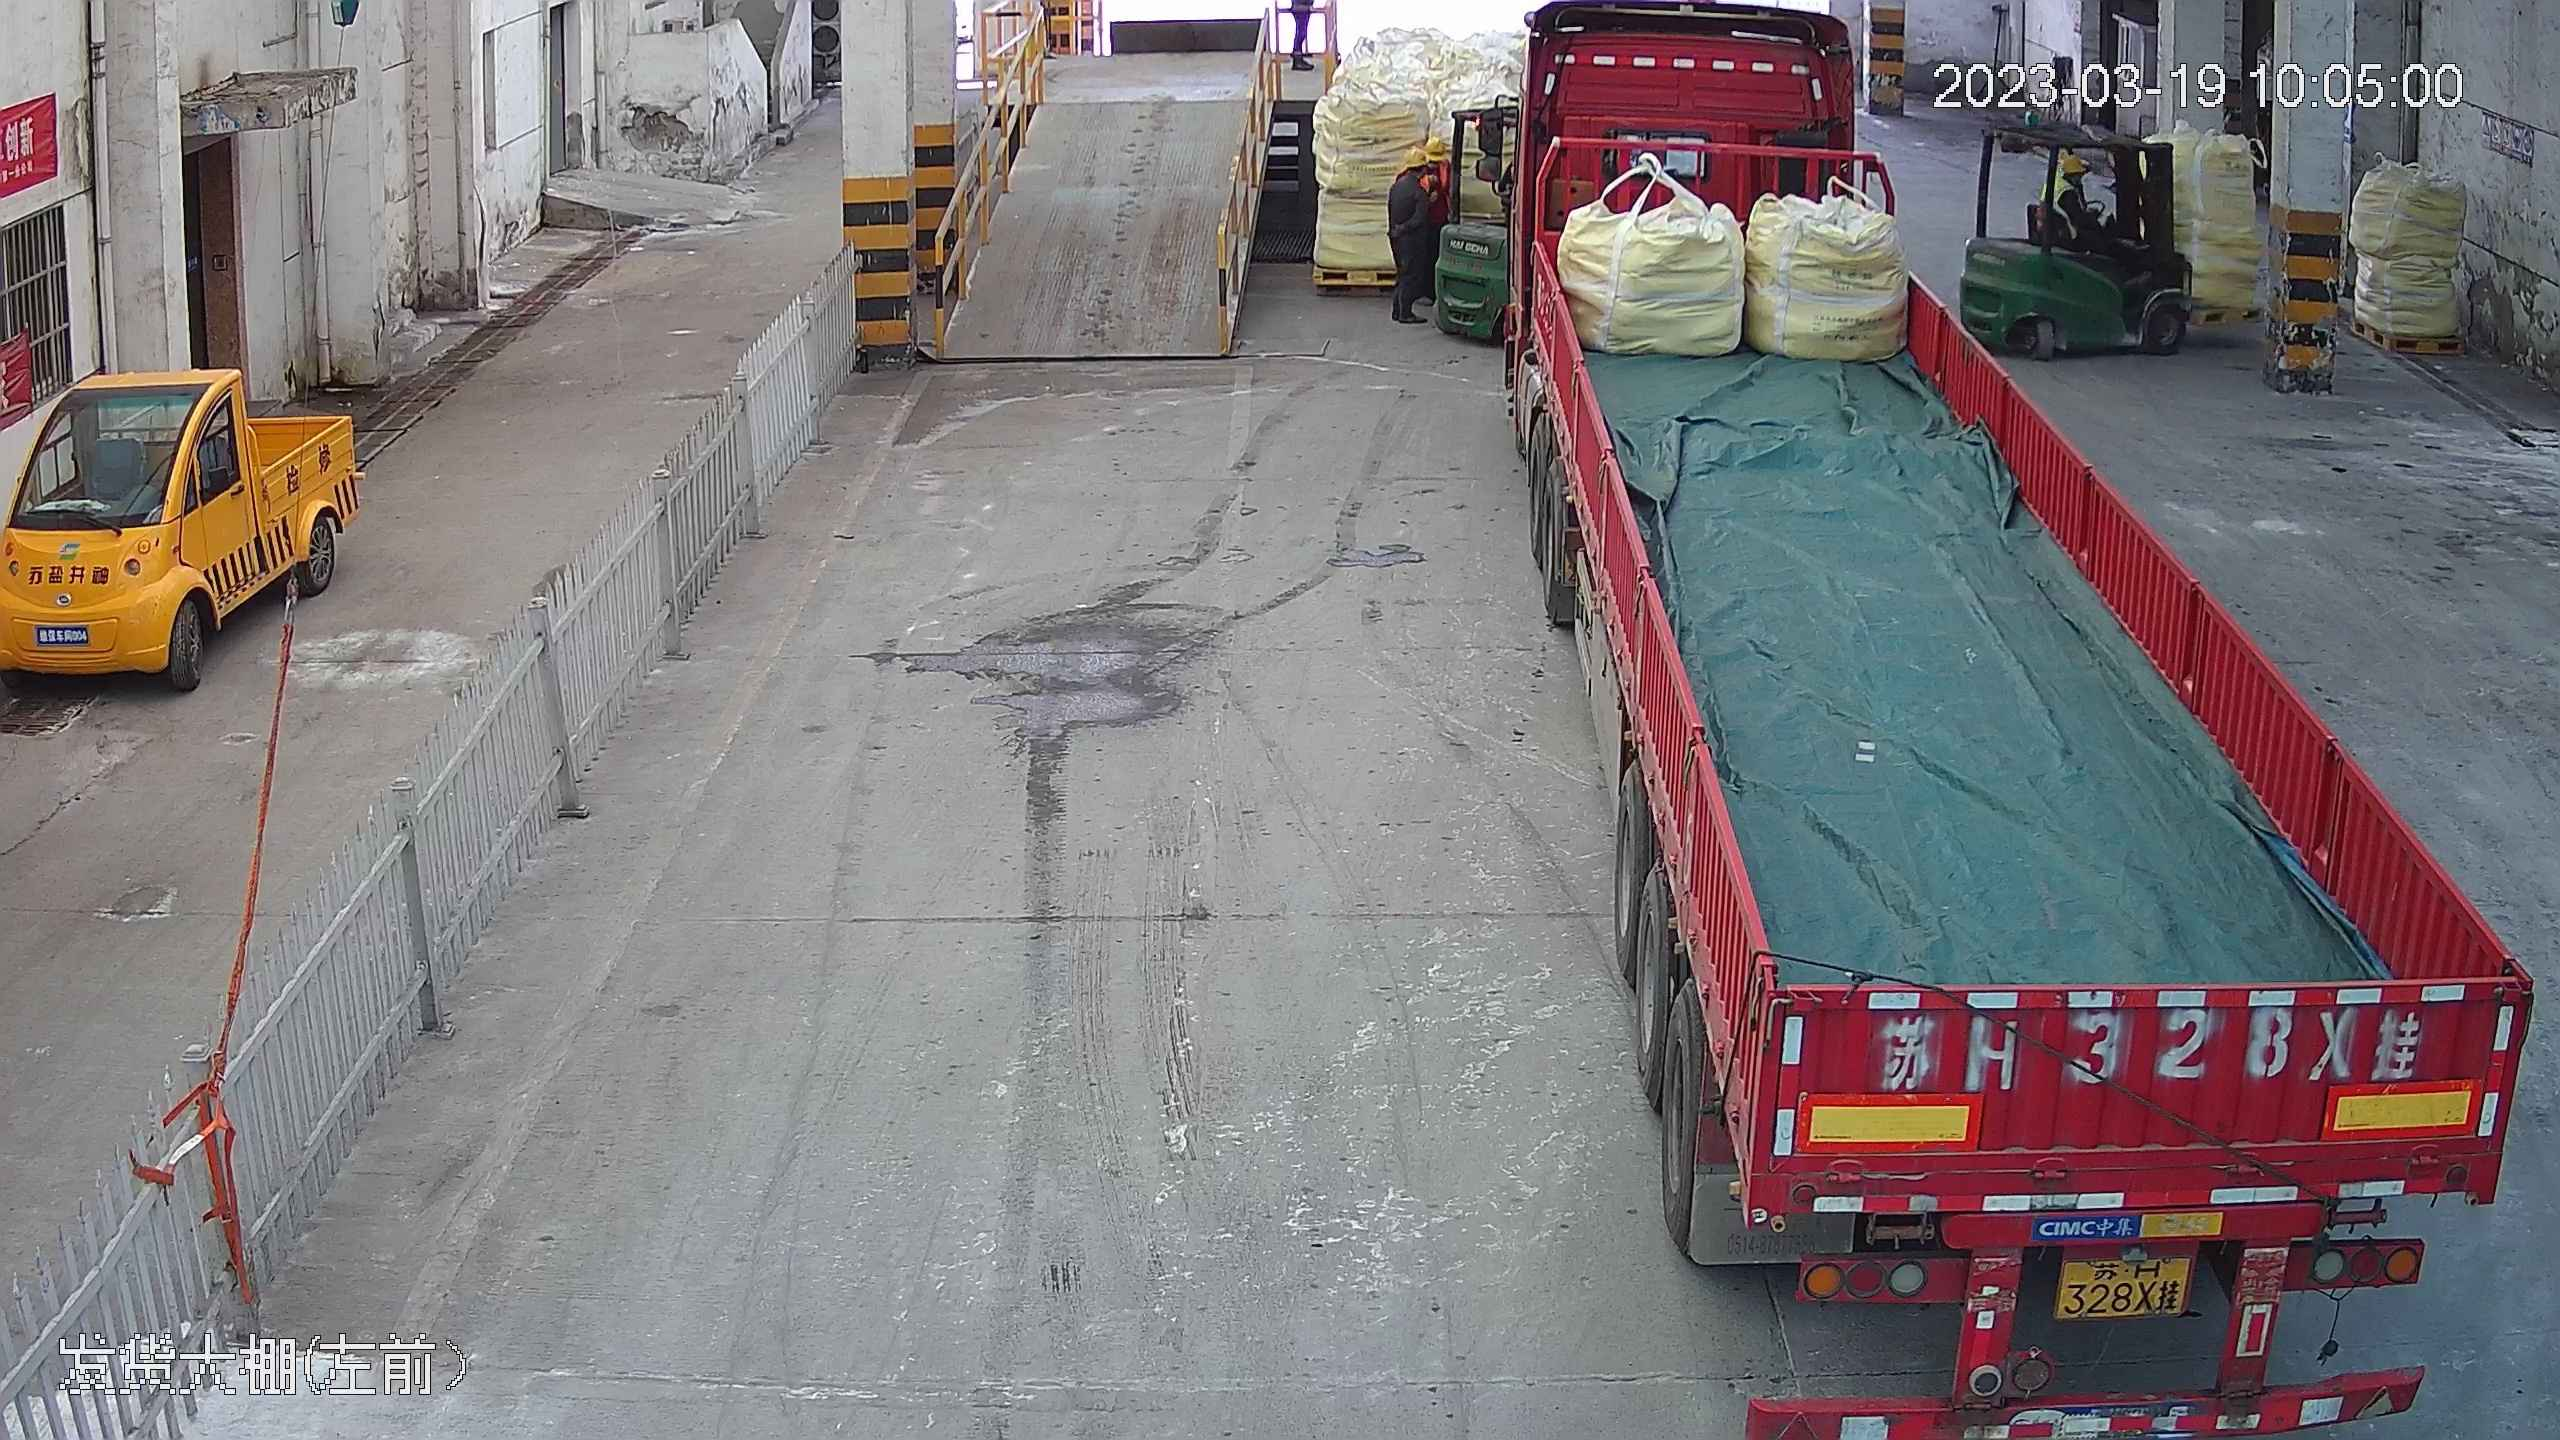head: (2042, 148, 2094, 206), (1395, 145, 1445, 202)
helmet: (2055, 146, 2084, 169), (1413, 143, 1439, 163)
people: (2042, 149, 2145, 271), (1388, 142, 1446, 329)
truck: (1495, 0, 2557, 1435)
